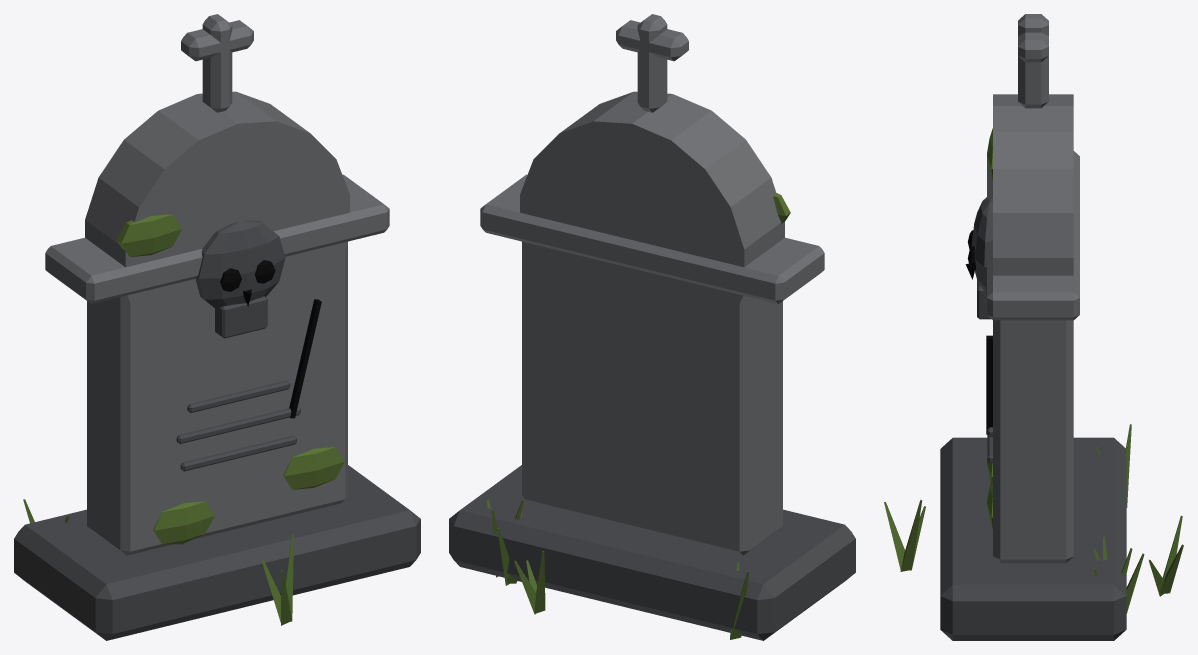
Rendered from tombstone.glb.
3 renders of one model, left to right at view 1: azimuth 30°, elevation 25°; view 2: azimuth 150°, elevation 25°; view 3: azimuth 270°, elevation 25°, orthographic.
Parts seen in each view (by area): view 1: Tombstone; view 2: Tombstone; view 3: Tombstone.
Part boxes in pixels (<box>): Tombstone: <box>14,14,420,640</box>; Tombstone: <box>449,14,855,640</box>; Tombstone: <box>884,14,1183,640</box>.
Size of the model in its own units: 0.6 by 0.9859 by 0.483.
